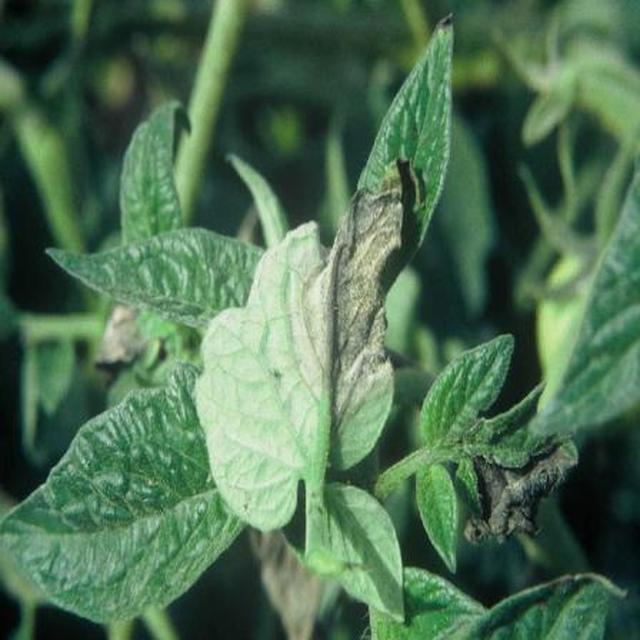Late Blight Leaf: (274, 106, 640, 640)
